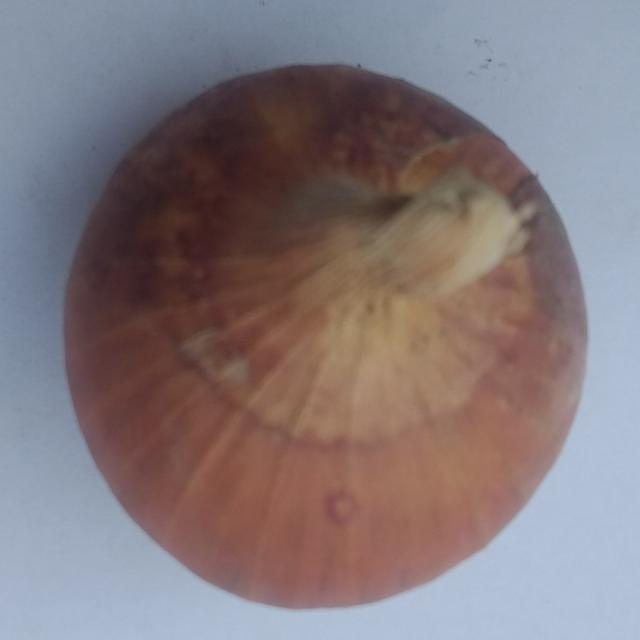onion: (61, 59, 590, 614)
